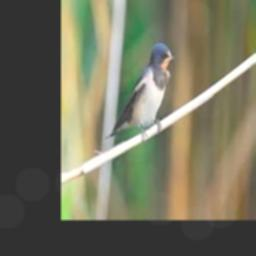Swallow: (106, 43, 177, 141)
